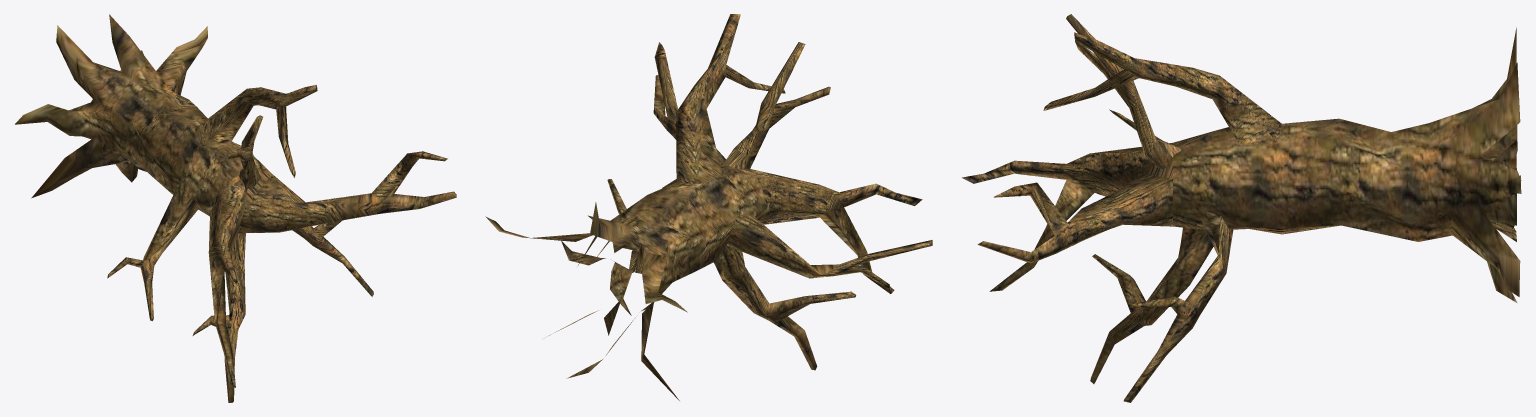
The picture shows the model from 3 angles, left to right: view 1: azimuth 30°, elevation 25°; view 2: azimuth 150°, elevation 25°; view 3: azimuth 270°, elevation 25°; orthographic projection. The views are drawn at different scales.
Parts seen in each view (by area): view 1: model_Object25; view 2: model_Object25; view 3: model_Object25.
Part boxes in pixels (x1,y1,x2,y2): model_Object25: (15, 14, 456, 402); model_Object25: (485, 14, 932, 400); model_Object25: (962, 14, 1521, 402).
Size of the model in its own units: 6.07 by 5.85 by 7.43.
1 material, 1 textured.
